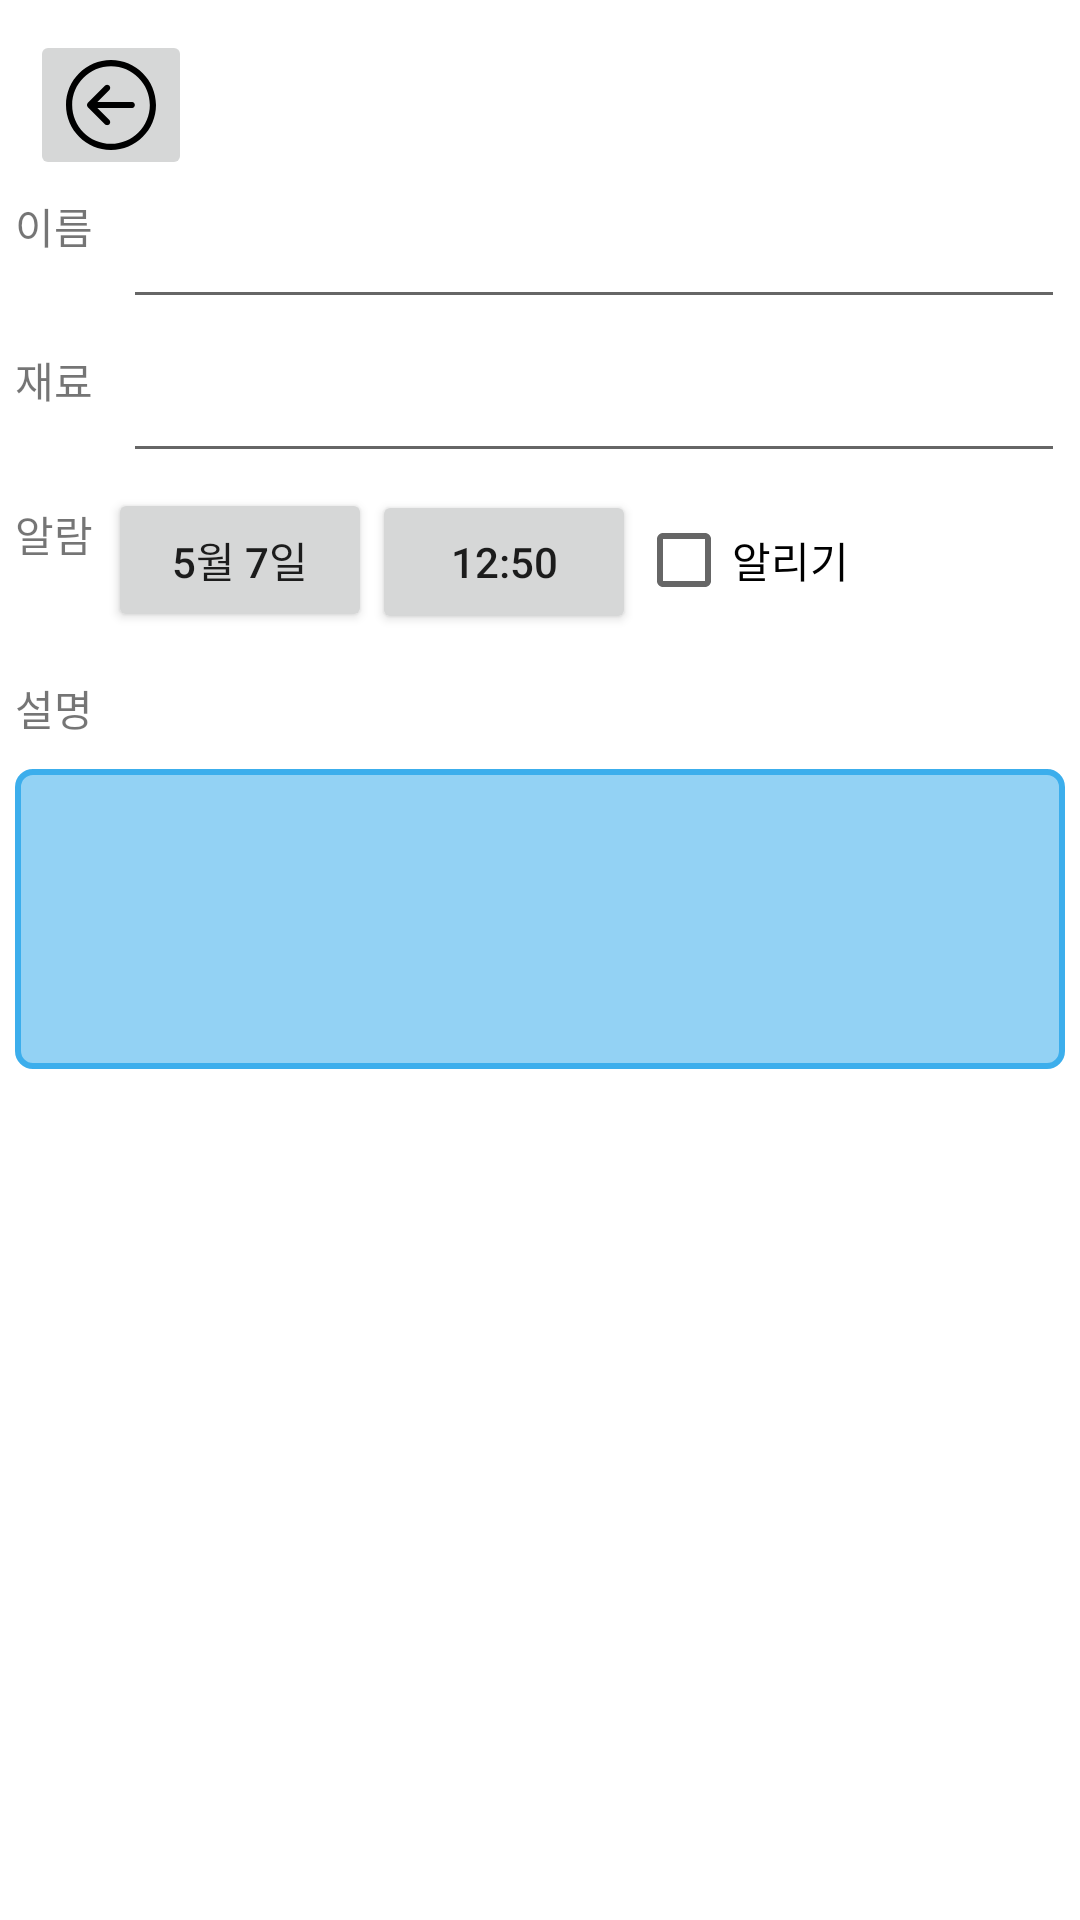

Icons on this 1080 x 1920 Android screen, each with the point to tap as [x,y]:
back: [111,105]
